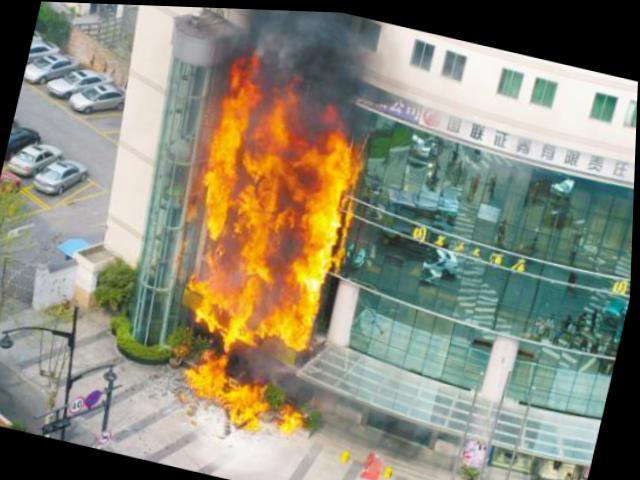fire: (269, 122, 358, 344), (220, 98, 295, 272), (193, 53, 261, 236), (184, 261, 262, 335), (272, 130, 312, 229), (189, 347, 232, 401), (222, 377, 265, 429), (250, 306, 278, 341), (281, 405, 300, 431)
